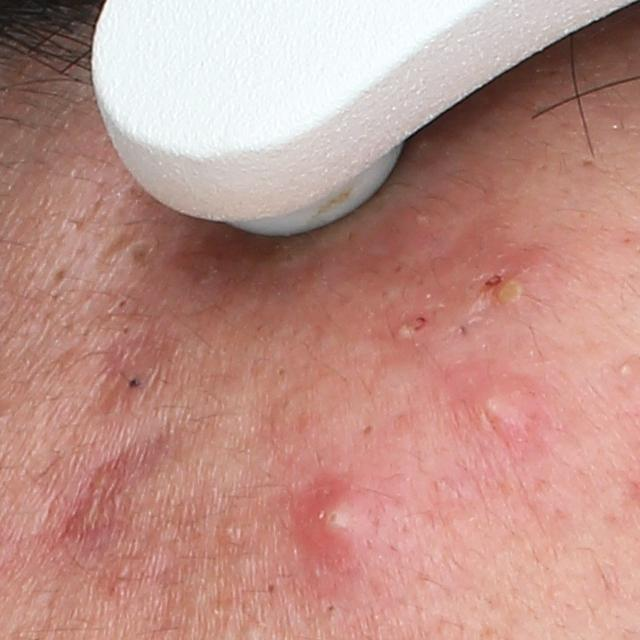comedo: (319, 596, 346, 621), (126, 242, 152, 266), (219, 523, 244, 542)
pustule: (468, 377, 531, 430), (316, 487, 369, 547), (496, 272, 534, 311), (390, 313, 422, 347)
